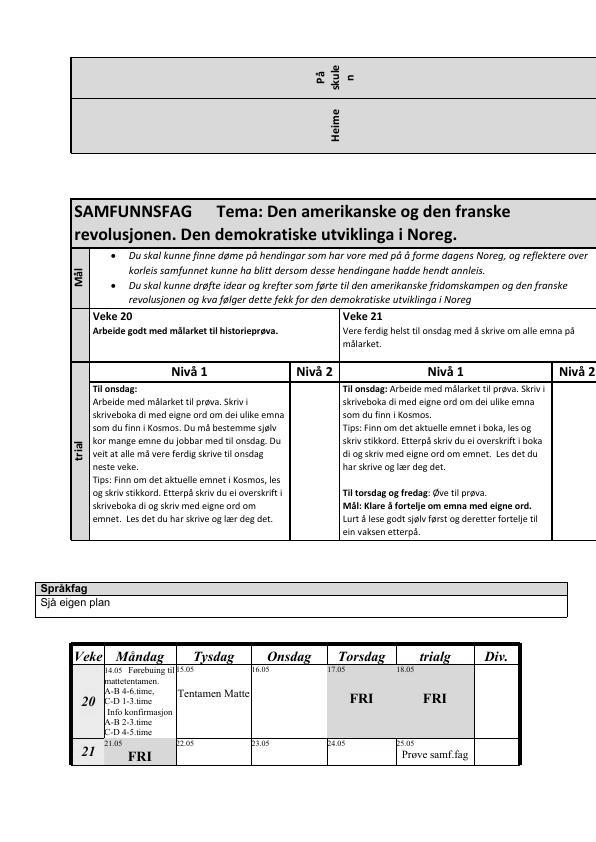table: (68, 197, 595, 542), (67, 640, 524, 768), (68, 54, 594, 155), (33, 579, 569, 620)
